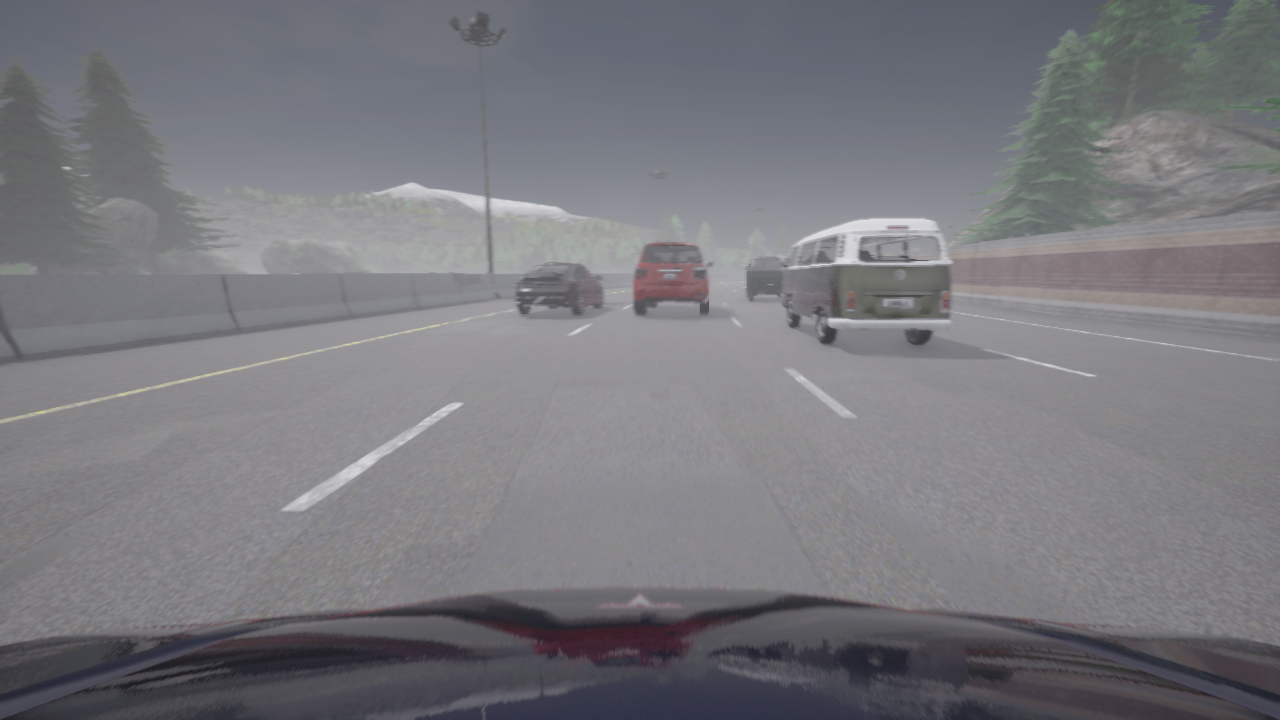cyclist: (0, 588, 1279, 719), (779, 218, 951, 346), (633, 242, 713, 314), (514, 263, 602, 314), (745, 255, 787, 300)
